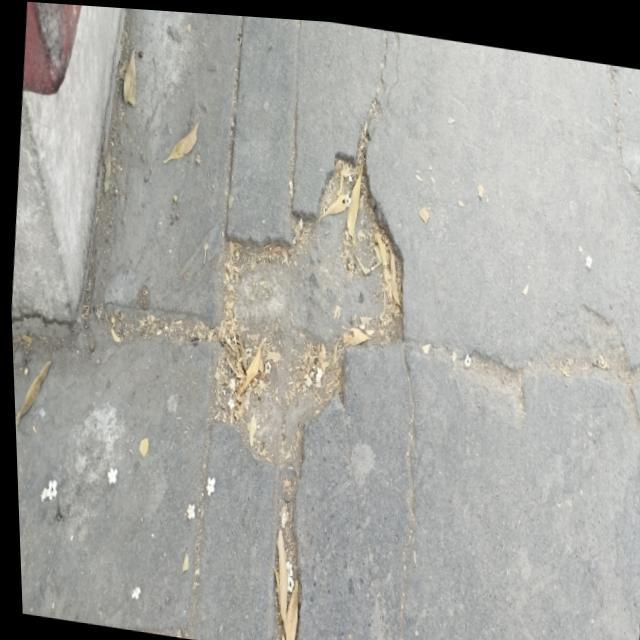hole: (194, 109, 424, 508)
